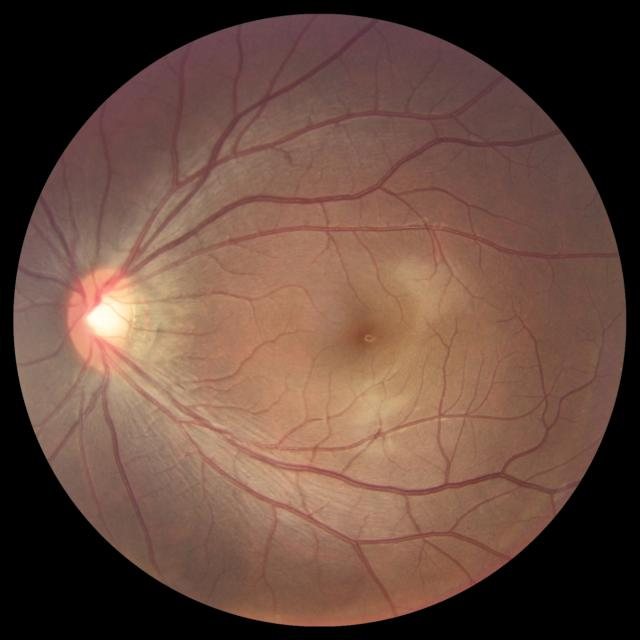OC: (83, 292, 126, 339)
OD: (69, 267, 139, 369)
